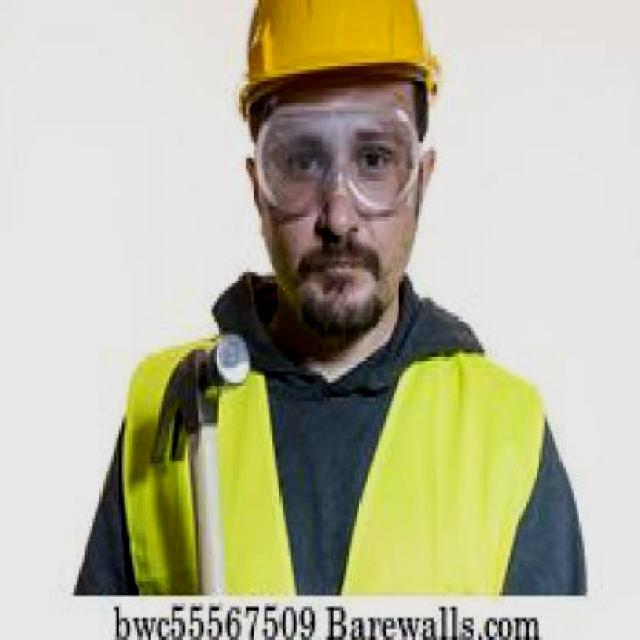face_nomask: (265, 135, 410, 290)
glasses: (252, 95, 420, 214)
head_helmet: (242, 2, 440, 100)
person: (55, 0, 607, 594)
vest: (116, 347, 549, 602)
